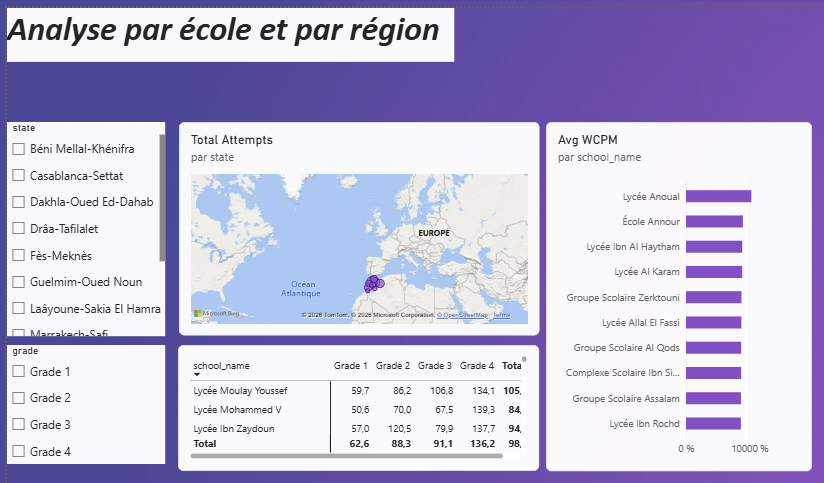

What the dashboard file says about the page in this screenshot:
{"tool":"powerbi","page":{"name":"Écoles","canvas":[1920,1080],"ordinal":2},"visuals":[{"type":"clusteredBarChart","fields":{"Category":["form_responces.school_name"],"Y":["performance_metrics.Avg WCPM"]},"box":[770,162.9,380,498.6],"z":1},{"type":"slicer","fields":{"Values":["form_responces.state"]},"box":[0,162.9,225.7,305.7],"z":2},{"type":"slicer","fields":{"Values":["student_details.grade"]},"box":[0,481.4,225.7,170],"z":3},{"type":"pivotTable","fields":{"Columns":["student_details.grade"],"Rows":["form_responces.school_name"],"Values":["performance_metrics.Avg WPM"]},"box":[244.3,481.4,515.7,180],"z":5},{"type":"textbox","box":[0,0,638.6,77.1],"z":6},{"type":"map","fields":{"Category":["form_responces.state"],"Size":["performance_metrics.Total Attempts"]},"box":[245,162.5,515,305],"z":7}]}

Visuals, with their boxes on the page's 1920x1080 design canvas (x1, y1, x2, y2). These are canvas units, not pixel positions in the 824x483 screenshot, which may show the page scaled, cropped or inside an application window:
clusteredBarChart - form_responces.school_name x performance_metrics.Avg WCPM: 770 163 1150 662
slicer - form_responces.state: 0 163 226 469
slicer - student_details.grade: 0 481 226 651
pivotTable - student_details.grade x form_responces.school_name: 244 481 760 661
textbox: 0 0 639 77
map - form_responces.state x performance_metrics.Total Attempts: 245 162 760 468
